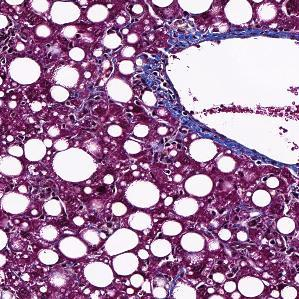fibrosis: (144, 75, 186, 123)
